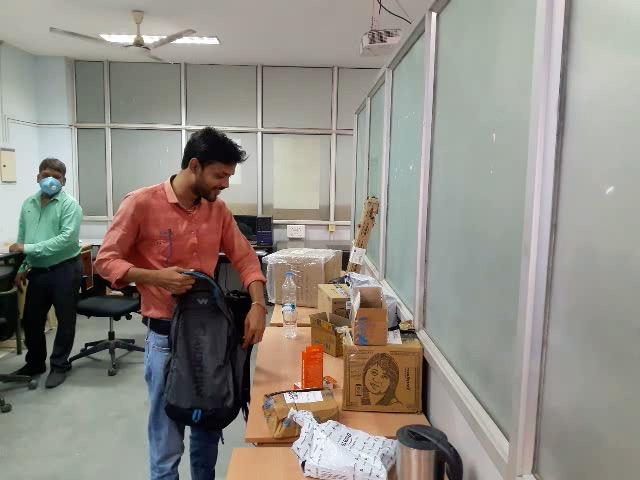shoplifting: (89, 234, 279, 475)
